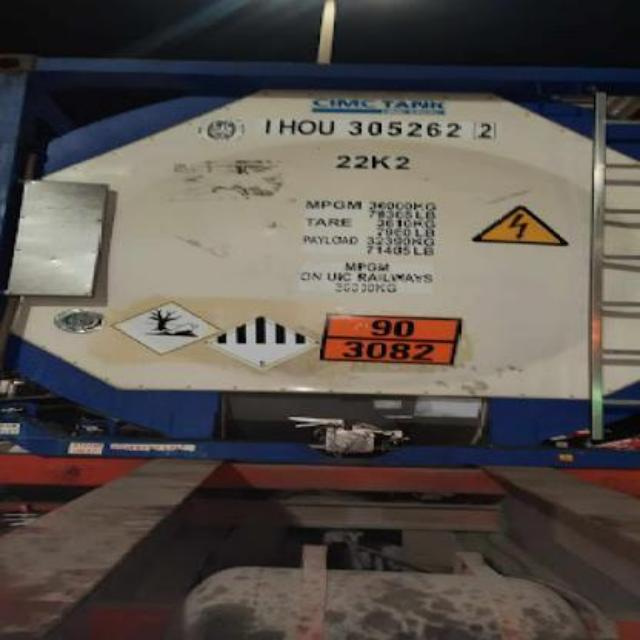0: (366, 120, 384, 136)
2: (406, 120, 424, 136), (476, 122, 494, 138), (444, 122, 462, 136)
3: (346, 120, 366, 132)
5: (386, 120, 406, 136)
6: (424, 120, 444, 136)
H: (274, 117, 300, 135)
I: (262, 118, 274, 132)
O: (298, 117, 318, 135)
U: (316, 117, 338, 137)
